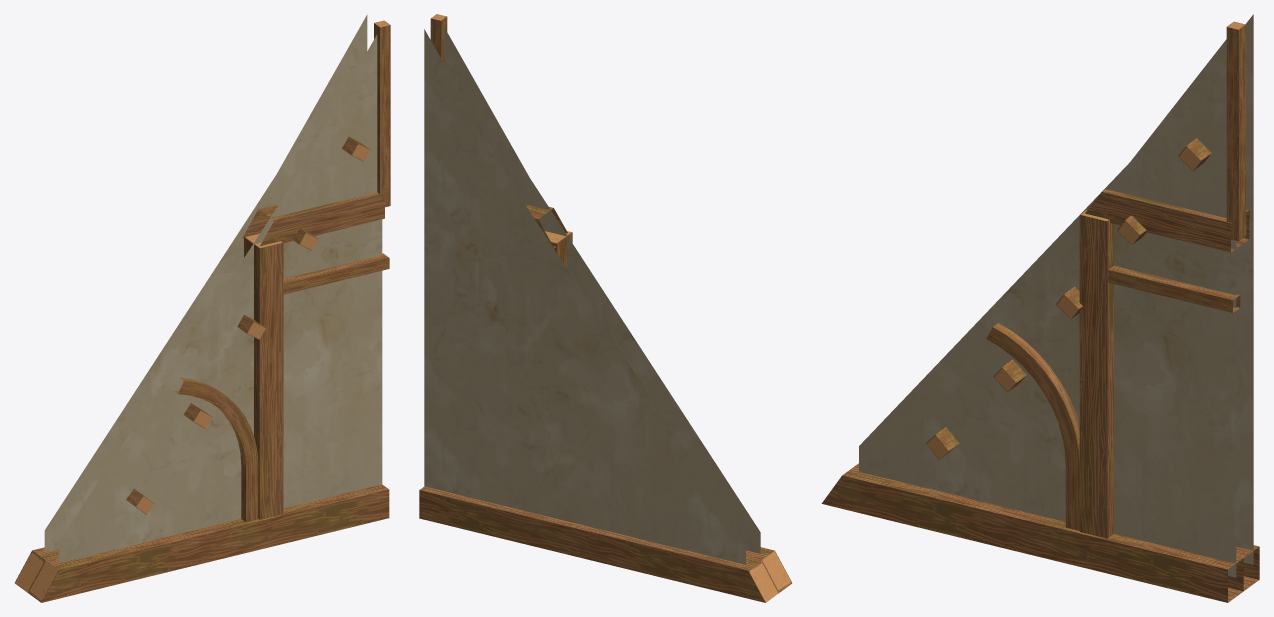
File: Roof_Front_Brick6_Half_L.gltf
3 renders of one model, left to right at view 1: azimuth 30°, elevation 25°; view 2: azimuth 150°, elevation 25°; view 3: azimuth 330°, elevation 25°, orthographic. The views are drawn at different scales.
Visible parts, largest first — view 1: Roof_Front_Brick6_Half_L; view 2: Roof_Front_Brick6_Half_L; view 3: Roof_Front_Brick6_Half_L.
Part boxes in pixels (box(x1,y1,x2,y2)): Roof_Front_Brick6_Half_L: box(15, 15, 390, 602); Roof_Front_Brick6_Half_L: box(419, 14, 792, 602); Roof_Front_Brick6_Half_L: box(821, 14, 1259, 602).
Size of the model in its own units: 3.41 by 4.52 by 0.4896.
2 materials, 2 textured.
